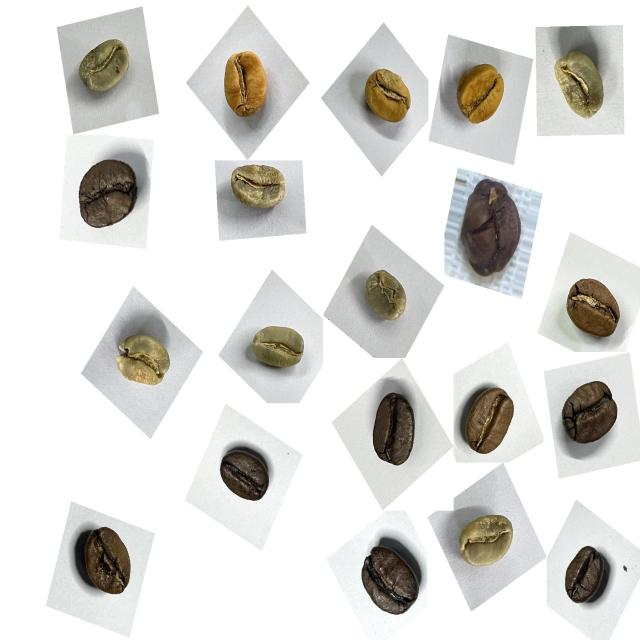bad: (449, 170, 533, 289)
dark: (347, 529, 425, 627), (547, 369, 627, 460), (354, 382, 425, 478), (209, 437, 276, 518)
green: (542, 35, 619, 132), (106, 314, 181, 402), (450, 503, 525, 585), (239, 310, 314, 387), (68, 28, 138, 110), (222, 155, 295, 224), (355, 259, 417, 332)
light: (207, 37, 281, 131), (447, 52, 518, 135), (352, 57, 421, 139)
medium: (65, 147, 148, 247), (452, 374, 528, 466), (68, 520, 145, 610), (558, 268, 630, 355), (555, 535, 617, 613)
